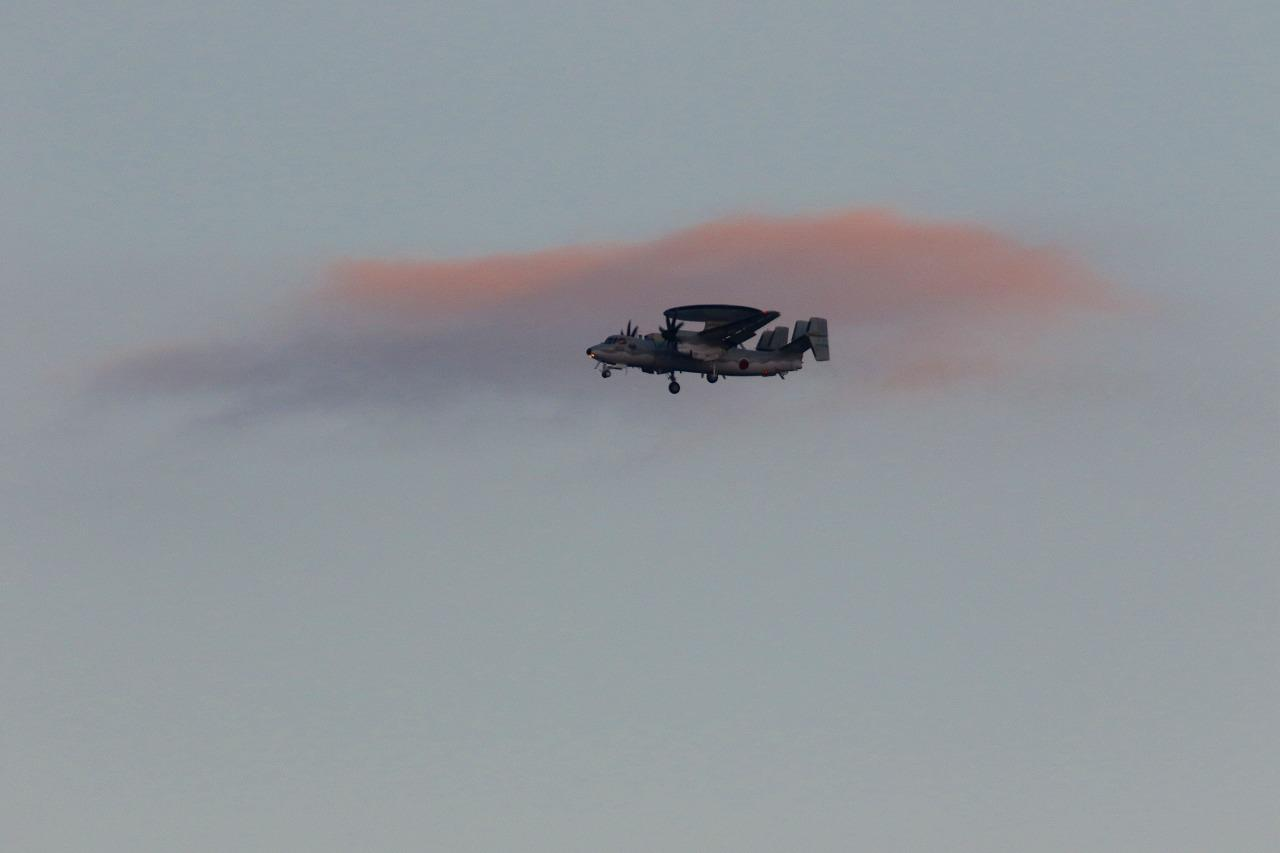E2: (585, 303, 829, 394)
